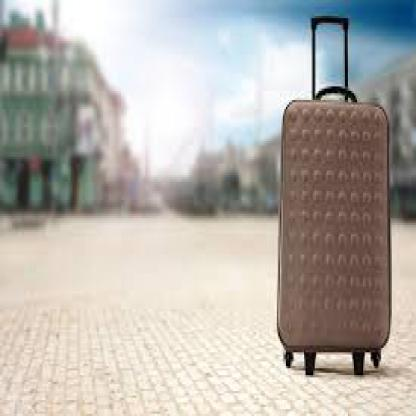maleta: (271, 91, 414, 414)
